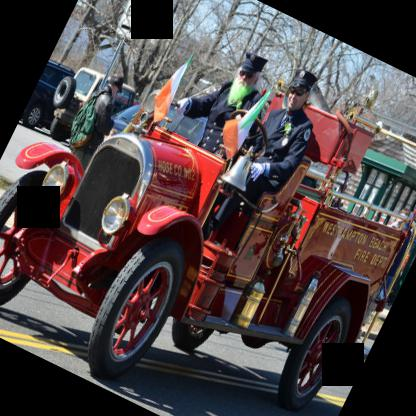backpack: (68, 89, 106, 150)
